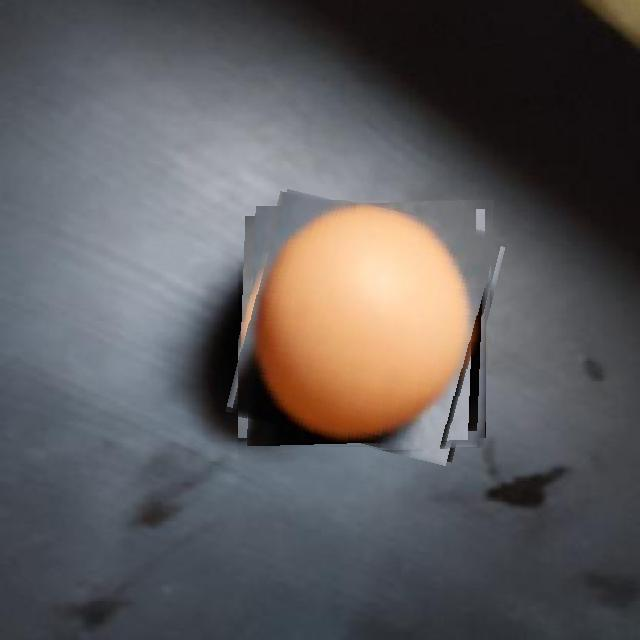biodegradable: (238, 200, 494, 455)
